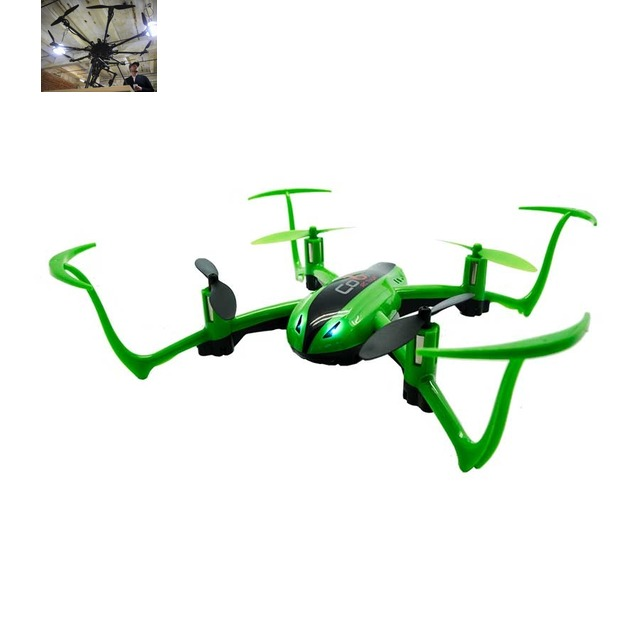drone: (49, 183, 597, 474), (41, 0, 157, 92)
